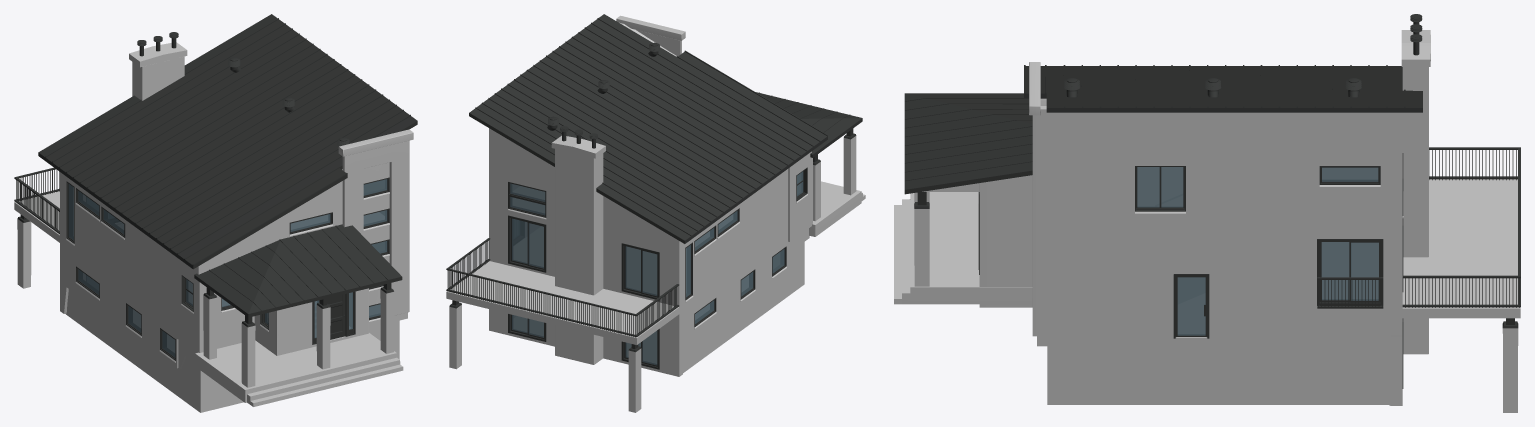
The model's file is house_4.gltf.
3 views of the same model, side by side, from view 1: azimuth 30°, elevation 25°; view 2: azimuth 150°, elevation 25°; view 3: azimuth 270°, elevation 25° (orthographic). The views are drawn at different scales.
Visible parts, largest first — view 1: Object_7, Object_3, Object_6, Object_2, Object_8, Object_5, Object_4; view 2: Object_7, Object_6, Object_2, Object_8, Object_5, Object_3, Object_4; view 3: Object_6, Object_7, Object_3, Object_8, Object_5, Object_2, Object_4.
Boxes of the visible parts, bbox=[...] form: Object_7: bbox=[38, 14, 417, 317]; Object_3: bbox=[66, 42, 413, 412]; Object_6: bbox=[60, 162, 407, 368]; Object_2: bbox=[17, 56, 409, 387]; Object_8: bbox=[14, 169, 368, 368]; Object_5: bbox=[14, 32, 393, 360]; Object_4: bbox=[68, 179, 387, 357]; Object_7: bbox=[469, 14, 862, 243]; Object_6: bbox=[489, 22, 811, 376]; Object_2: bbox=[449, 30, 856, 412]; Object_8: bbox=[446, 151, 812, 344]; Object_5: bbox=[446, 42, 856, 369]; Object_3: bbox=[508, 15, 865, 372]; Object_4: bbox=[510, 171, 803, 365]; Object_6: bbox=[922, 99, 1402, 405]; Object_7: bbox=[904, 65, 1422, 194]; Object_3: bbox=[894, 30, 1430, 404]; Object_8: bbox=[979, 98, 1520, 318]; Object_5: bbox=[914, 14, 1520, 388]; Object_2: bbox=[914, 67, 1518, 412]; Object_4: bbox=[1137, 167, 1378, 335].
Bounding box in the file's own units: 1045 × 1073 × 1886.
